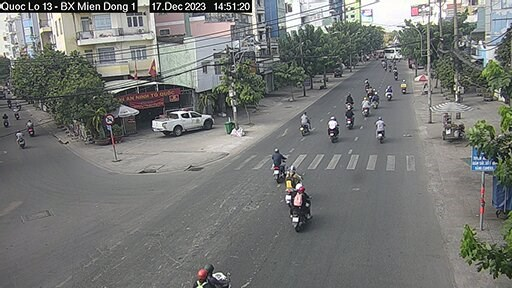car: (142, 96, 229, 134)
motorbike: (278, 159, 307, 201), (268, 146, 295, 189), (292, 183, 313, 227), (299, 114, 318, 141), (377, 115, 393, 143), (324, 112, 338, 137)
